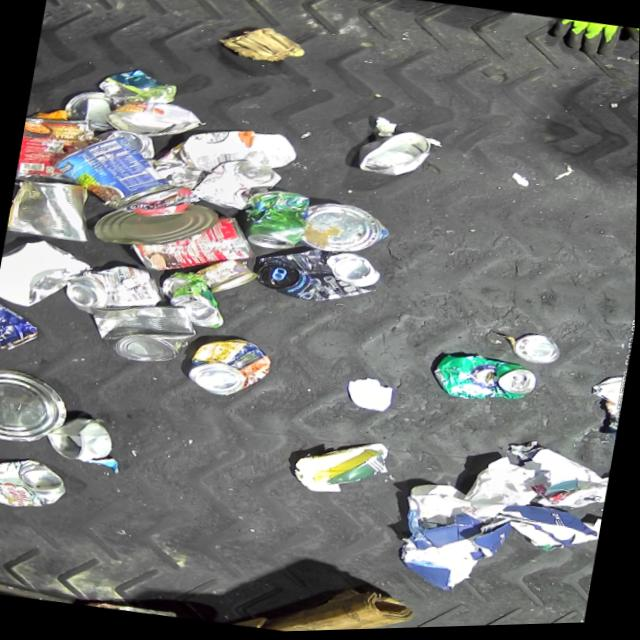can: (45, 126, 180, 220), (127, 201, 260, 287), (253, 238, 385, 314), (83, 292, 202, 370), (92, 189, 220, 258), (62, 256, 167, 324), (431, 350, 542, 412), (0, 363, 76, 451), (7, 174, 100, 245), (186, 332, 277, 404), (189, 154, 285, 219), (301, 198, 395, 263), (17, 111, 95, 188), (102, 94, 204, 146), (240, 188, 313, 256), (0, 449, 73, 515), (358, 125, 439, 184), (157, 269, 232, 331), (43, 411, 116, 466), (194, 254, 259, 300), (0, 293, 48, 355), (61, 86, 119, 134), (86, 597, 186, 622), (93, 127, 158, 161), (512, 333, 564, 369)
